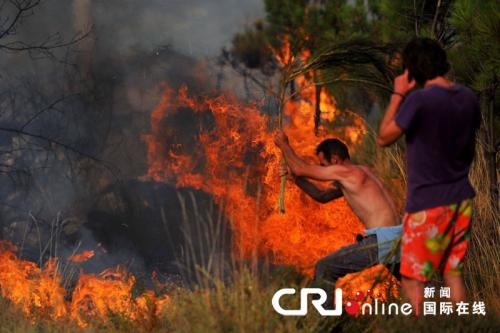fire: (206, 103, 361, 249), (1, 242, 163, 329)
smoke: (5, 51, 144, 240), (148, 2, 254, 53)
